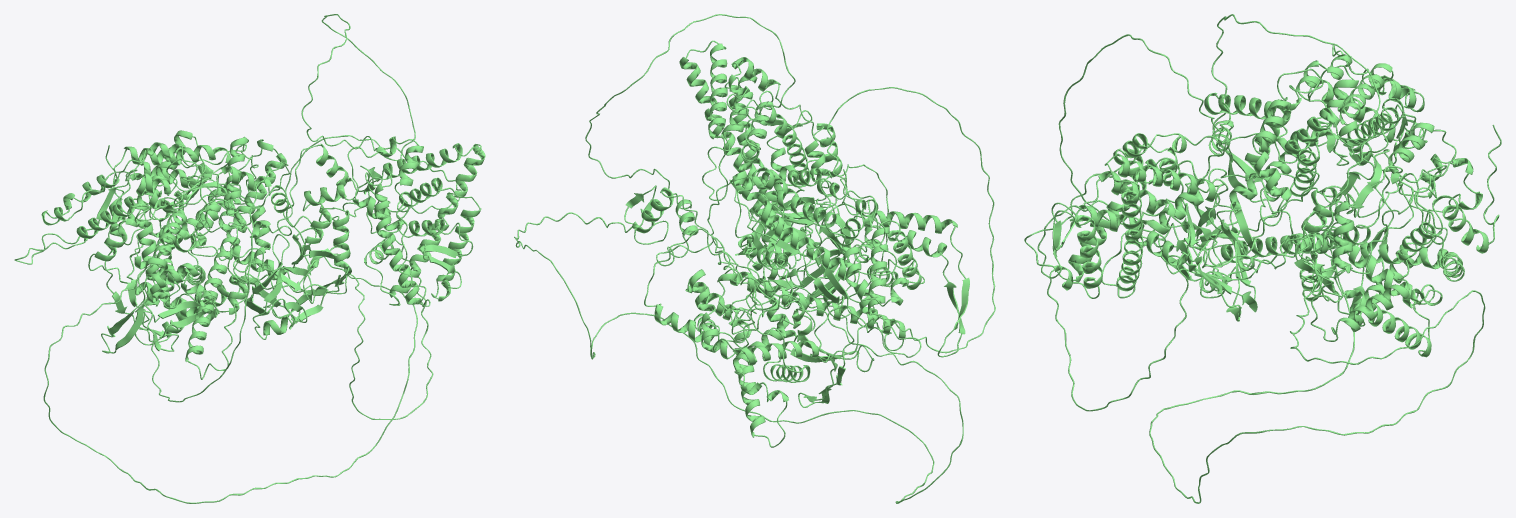
The picture shows the model from 3 angles, left to right: view 1: azimuth 30°, elevation 25°; view 2: azimuth 150°, elevation 25°; view 3: azimuth 270°, elevation 25°; orthographic projection. The views are drawn at different scales.
Size of the model in its own units: 143 by 134 by 118.
